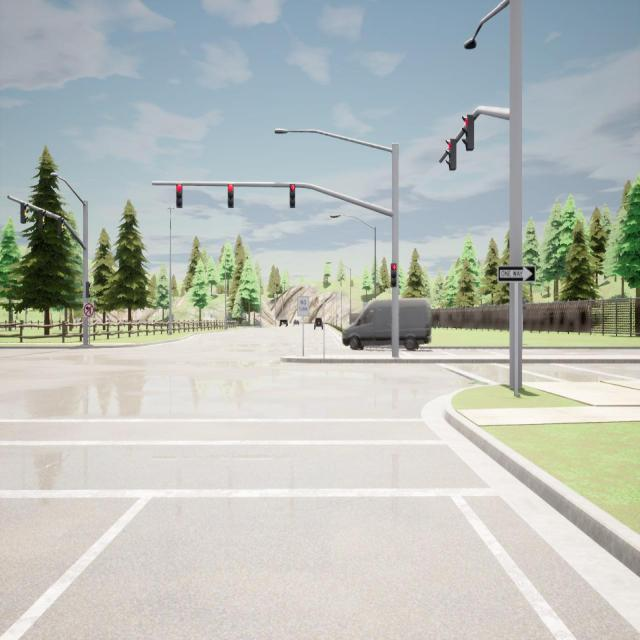Traffic_Signs: (497, 265, 536, 283), (297, 298, 309, 316), (84, 303, 94, 317)
Vehicle: (342, 298, 432, 351), (314, 318, 323, 330), (279, 316, 288, 326), (294, 319, 300, 326)
traffic_light: (462, 113, 474, 151), (445, 138, 456, 170), (20, 202, 29, 224), (38, 210, 46, 229), (176, 184, 182, 208), (391, 263, 397, 287), (228, 184, 234, 208), (290, 184, 295, 208), (58, 217, 64, 236), (86, 282, 91, 298)
